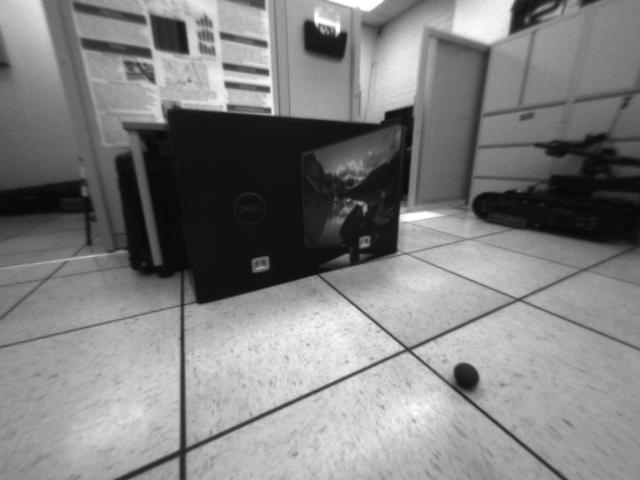dogtoy: (450, 356, 485, 393)
